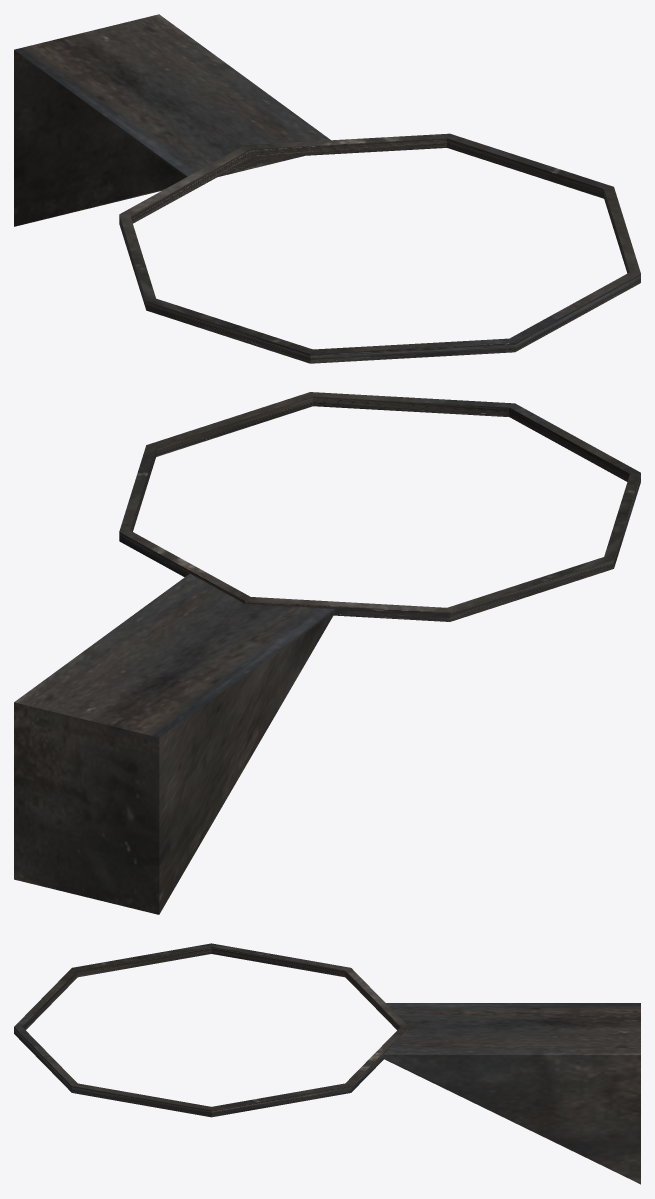
File: basketballHoop.fbx
3 views of the same model, one above another, from view 1: azimuth 30°, elevation 25°; view 2: azimuth 150°, elevation 25°; view 3: azimuth 270°, elevation 25° (orthographic). The views are drawn at different scales.
Parts seen in each view (by area): view 1: Cube; view 2: Cube; view 3: Cube.
Boxes of the visible parts, <box> form: Cube: <box>14,14,640,363</box>; Cube: <box>14,392,640,914</box>; Cube: <box>14,943,640,1184</box>.
Size of the model in its own units: 92 by 33.86 by 146.
Materials: 1 (1 with a texture image).
